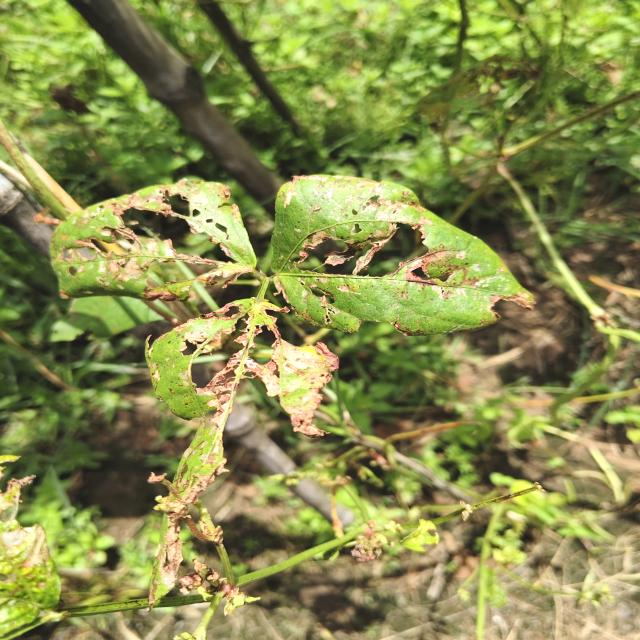leaf-moderate: (51, 175, 534, 605), (400, 12, 499, 159)
sitaw-aphid-low: (0, 422, 105, 640)
